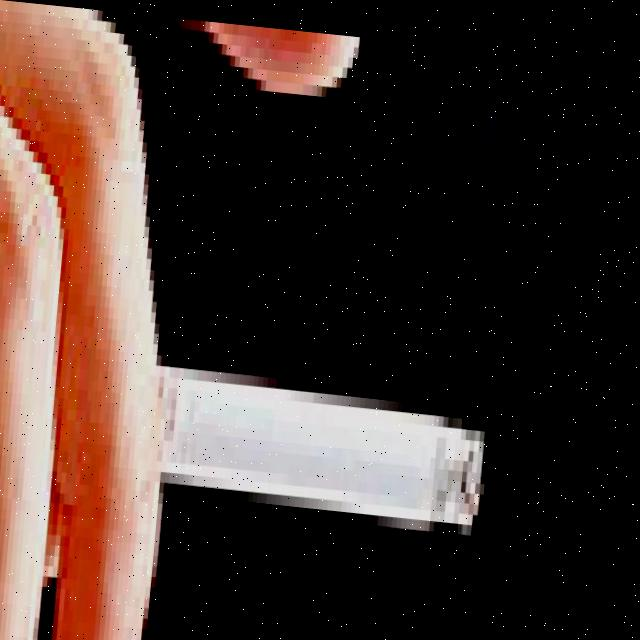cigarette: (157, 367, 494, 523)
